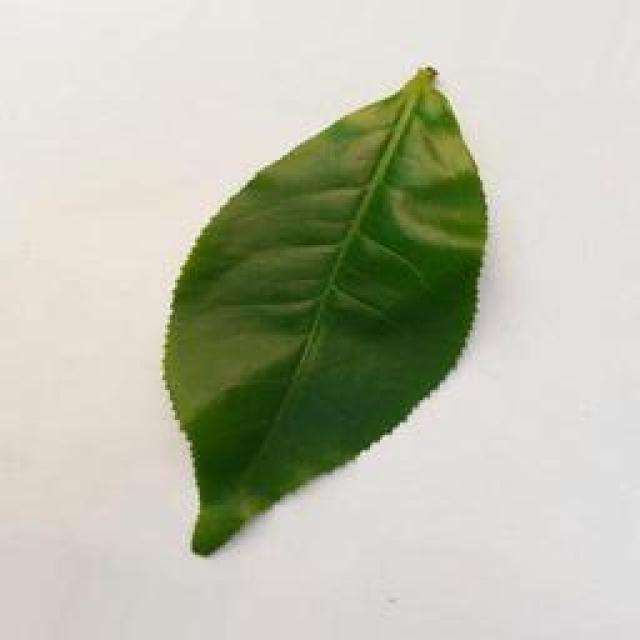Healthy: (156, 66, 497, 564)
